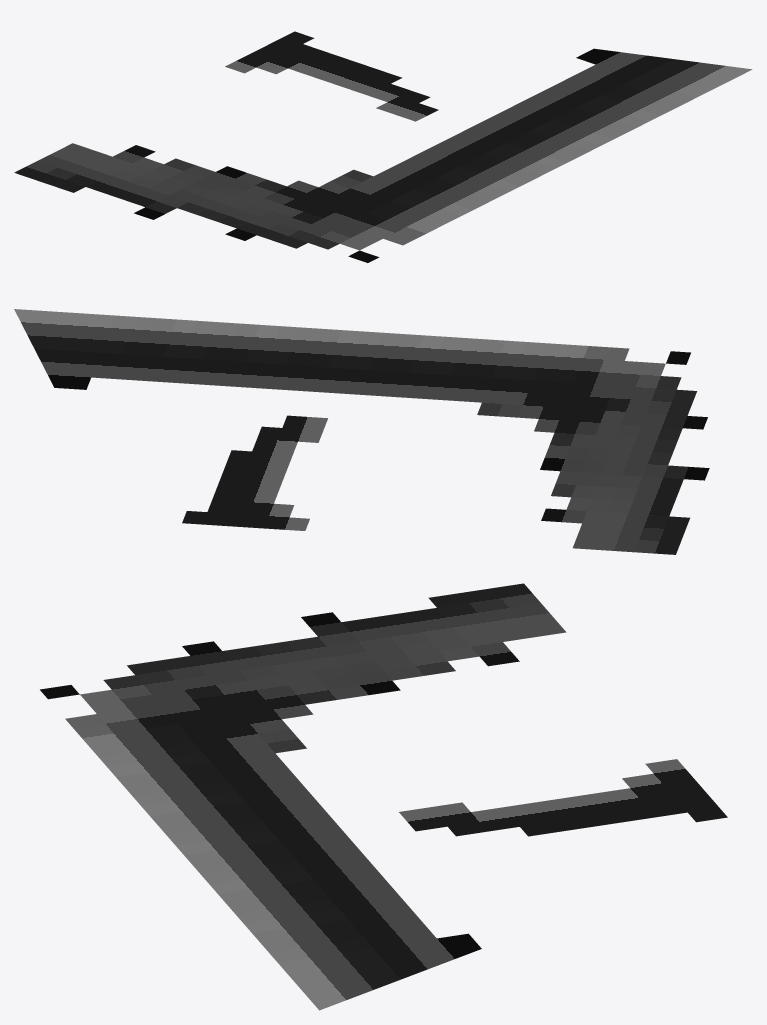
File: grenade_launcher_secondary.glb
The picture shows the model from 3 angles, top to bottom: view 1: azimuth 30°, elevation 25°; view 2: azimuth 150°, elevation 25°; view 3: azimuth 270°, elevation 25°; orthographic projection. The views are drawn at different scales.
Visible parts, largest first — view 1: Object; view 2: Object; view 3: Object.
Part boxes in pixels (x1,y1,x2,y2): Object: [14, 31, 752, 262]; Object: [14, 309, 709, 554]; Object: [40, 583, 727, 1010].
Bounding box in the file's own units: 0.0941 × 0.000812 × 0.0691.
1 material, 1 textured.
